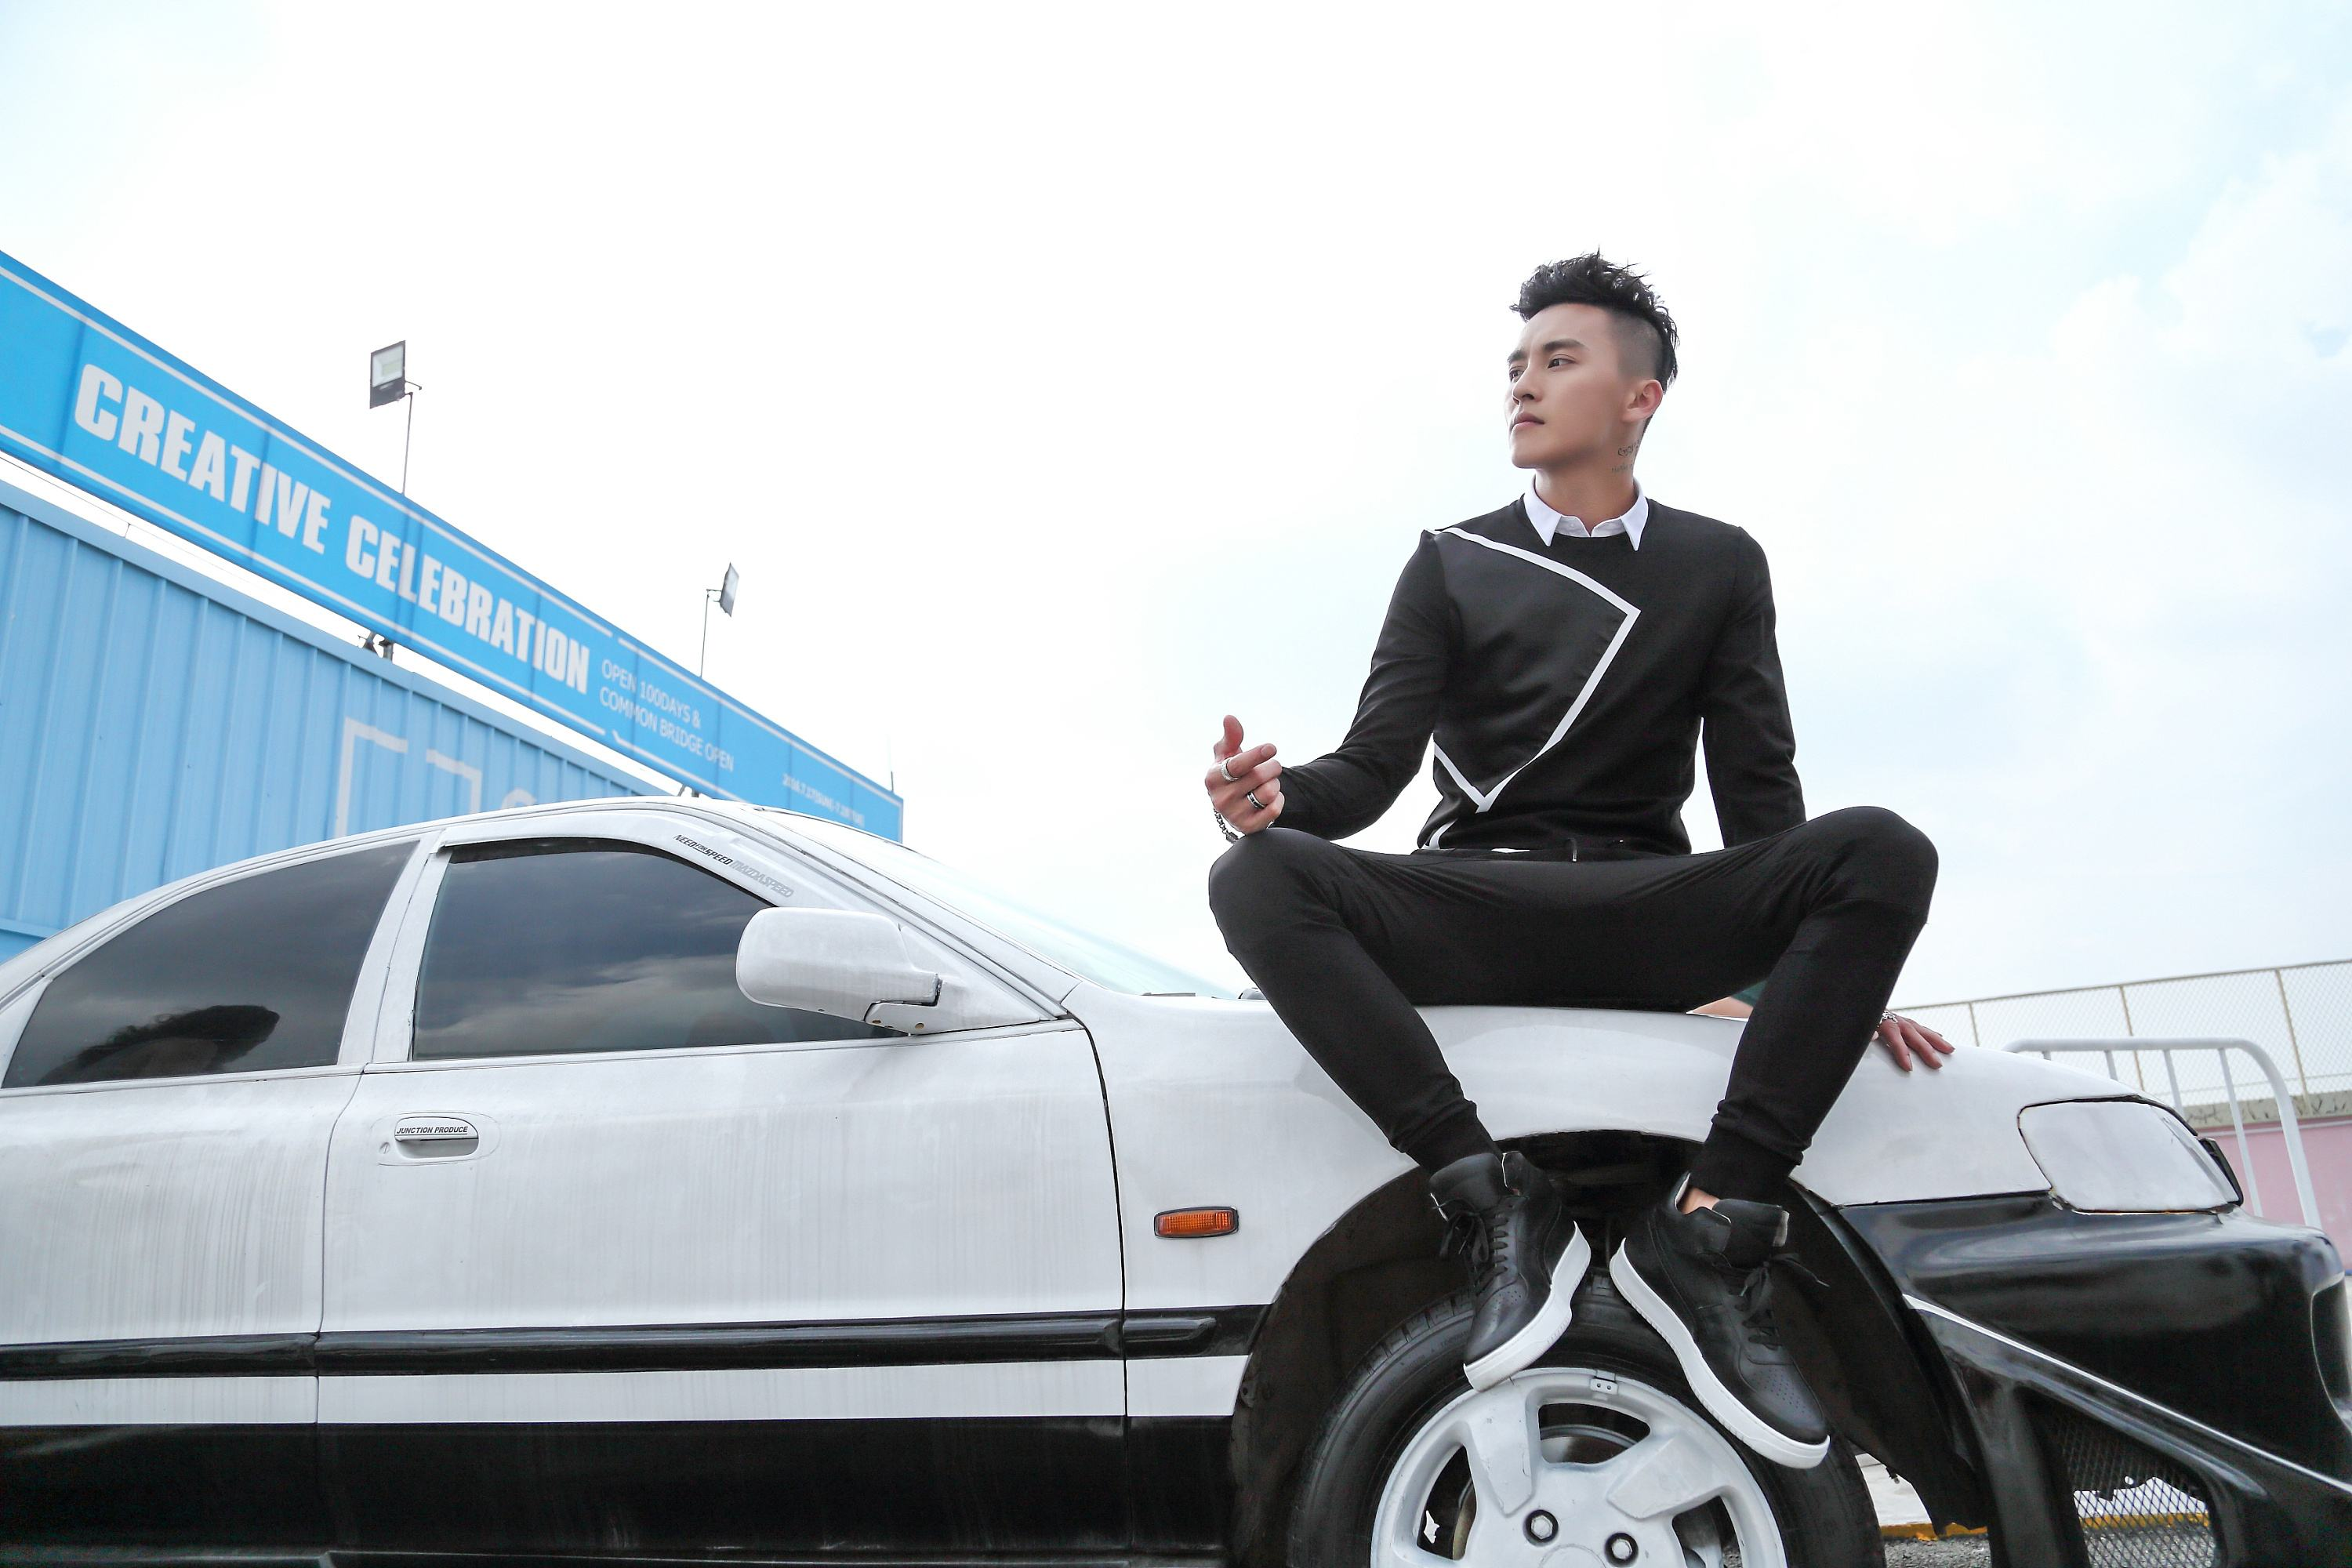person: (1040, 234, 1954, 1300)
